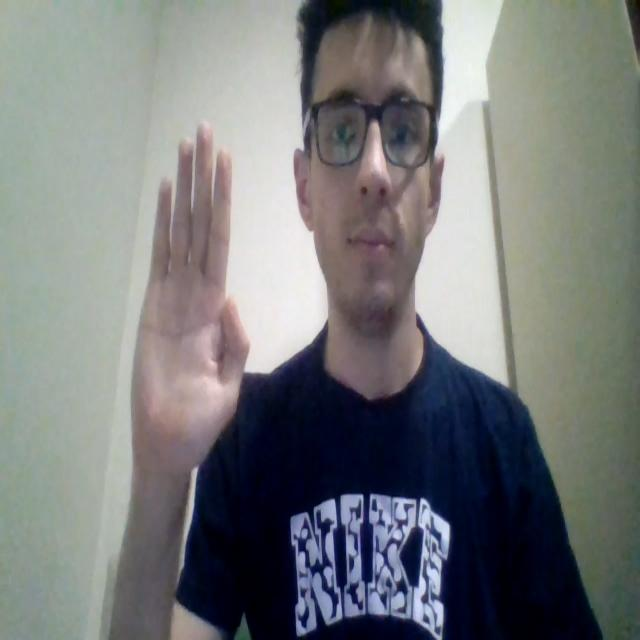hello: (130, 119, 250, 478)
